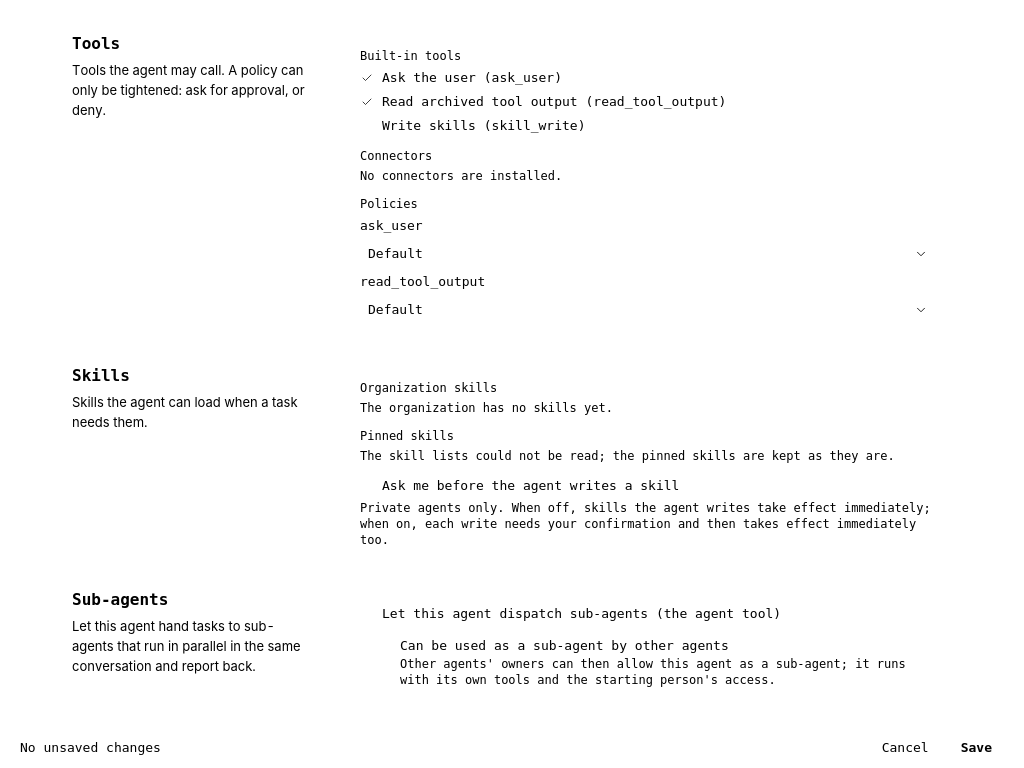
Test: 新建 Agent 页（FormPage） › 名称为空时不提交，名称字段显示错误
The image size is (1024, 768).
(page scrolled)
Click the button "Save". click: point(976, 748)
box: [949,734,1004,762]
(page scrolled)
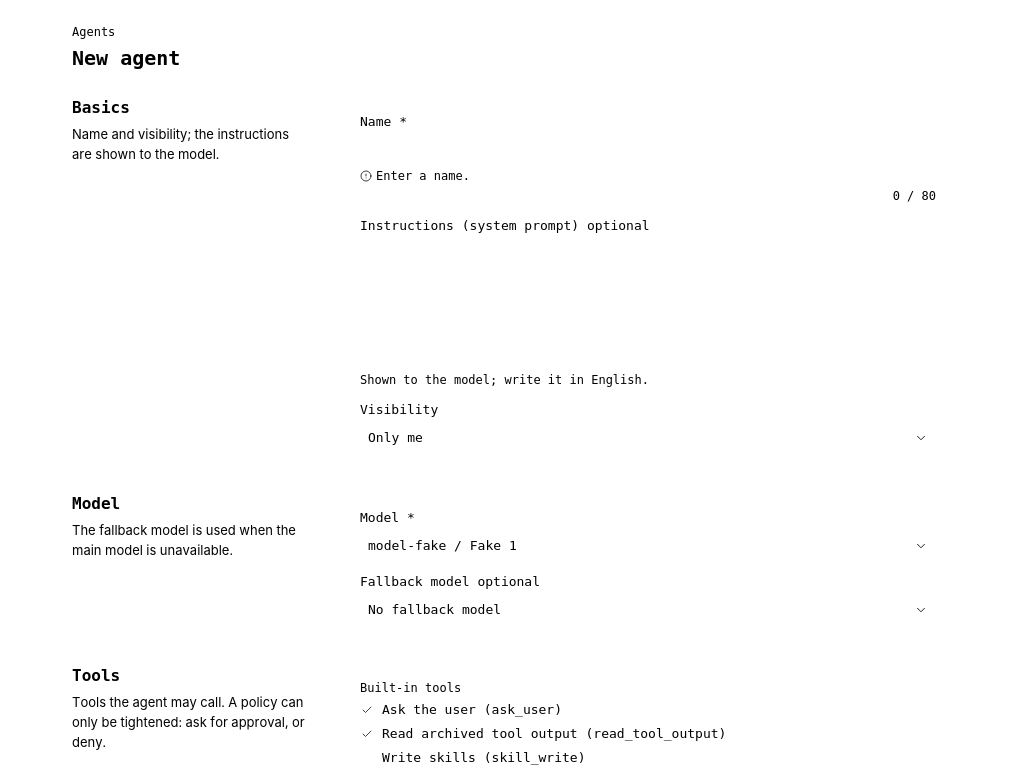
Expected: the text "Enter a name." is shown, [376,168,470,184]
